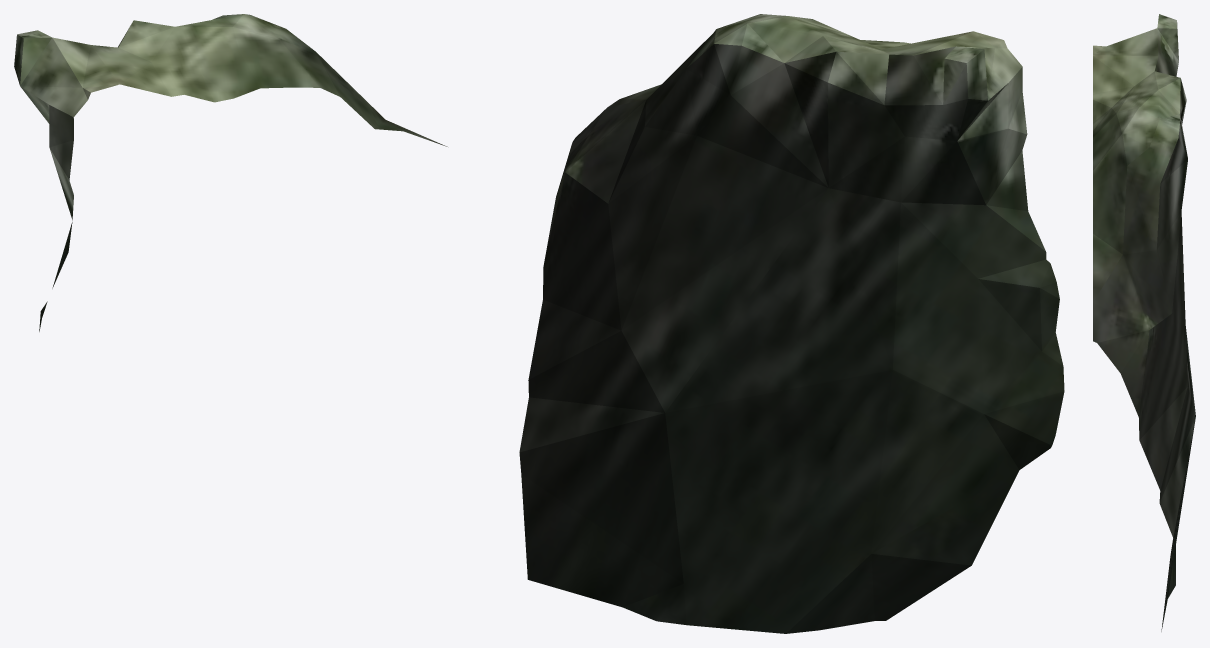
3 renders of one model, left to right at view 1: azimuth 30°, elevation 25°; view 2: azimuth 150°, elevation 25°; view 3: azimuth 270°, elevation 25°, orthographic. The views are drawn at different scales.
Size of the model in its own units: 1.72 by 2.16 by 0.437.
1 material, 1 textured.
